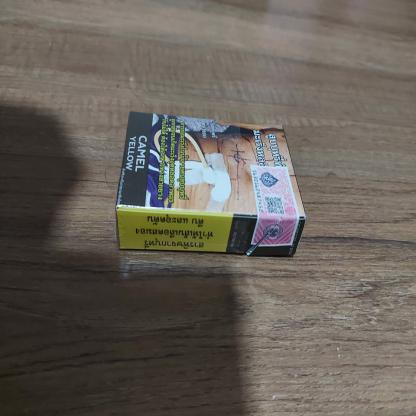box: (110, 98, 310, 262)
